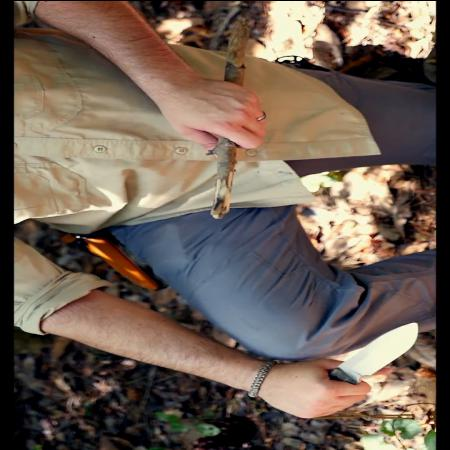long weapon: (301, 319, 425, 414)
